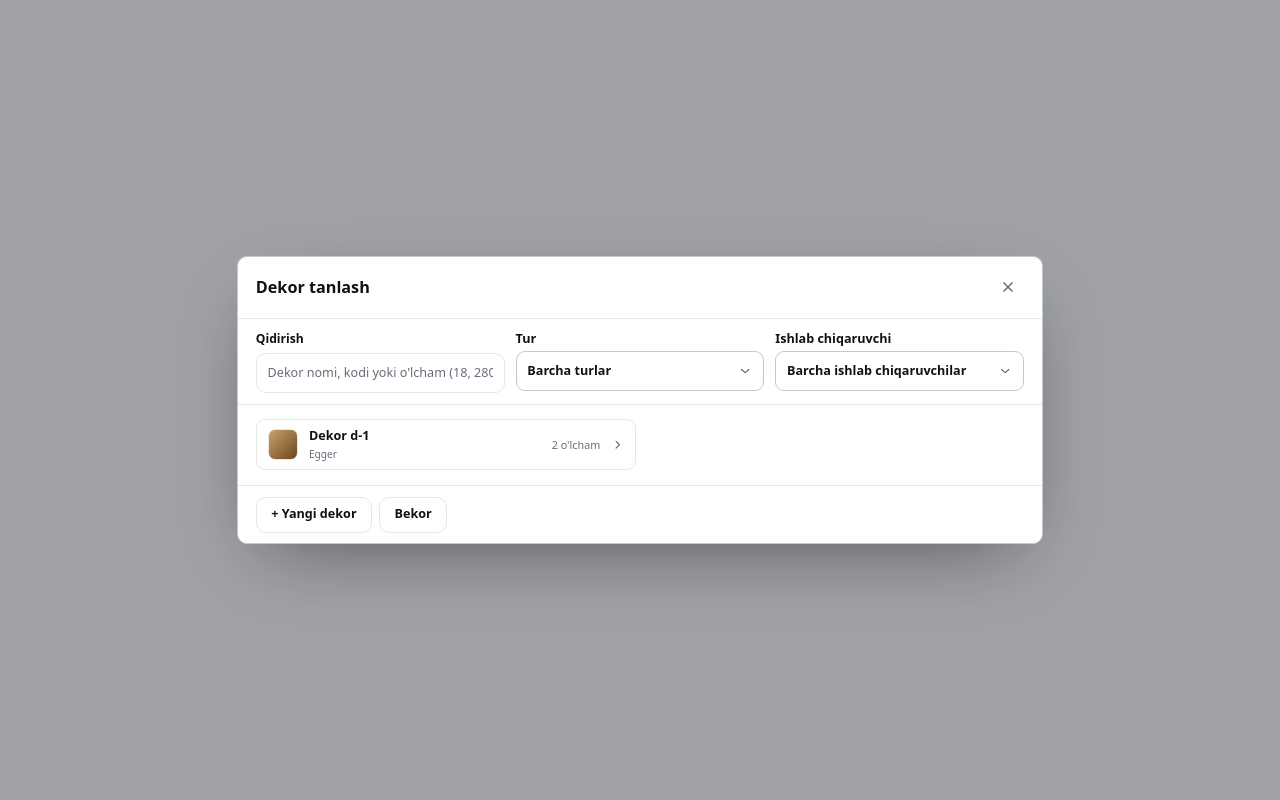
Test: BranchMaterialAttachSheet — «+ Boshqa o‘lcham», merged in silence › ticks a row whose shape is already on screen, without asking the server
This screenshot has width=1280, height=800.
Click the button "Dekor d-1 Egger 2 o'lcham": (283,445) left=256, top=419, right=636, bottom=470
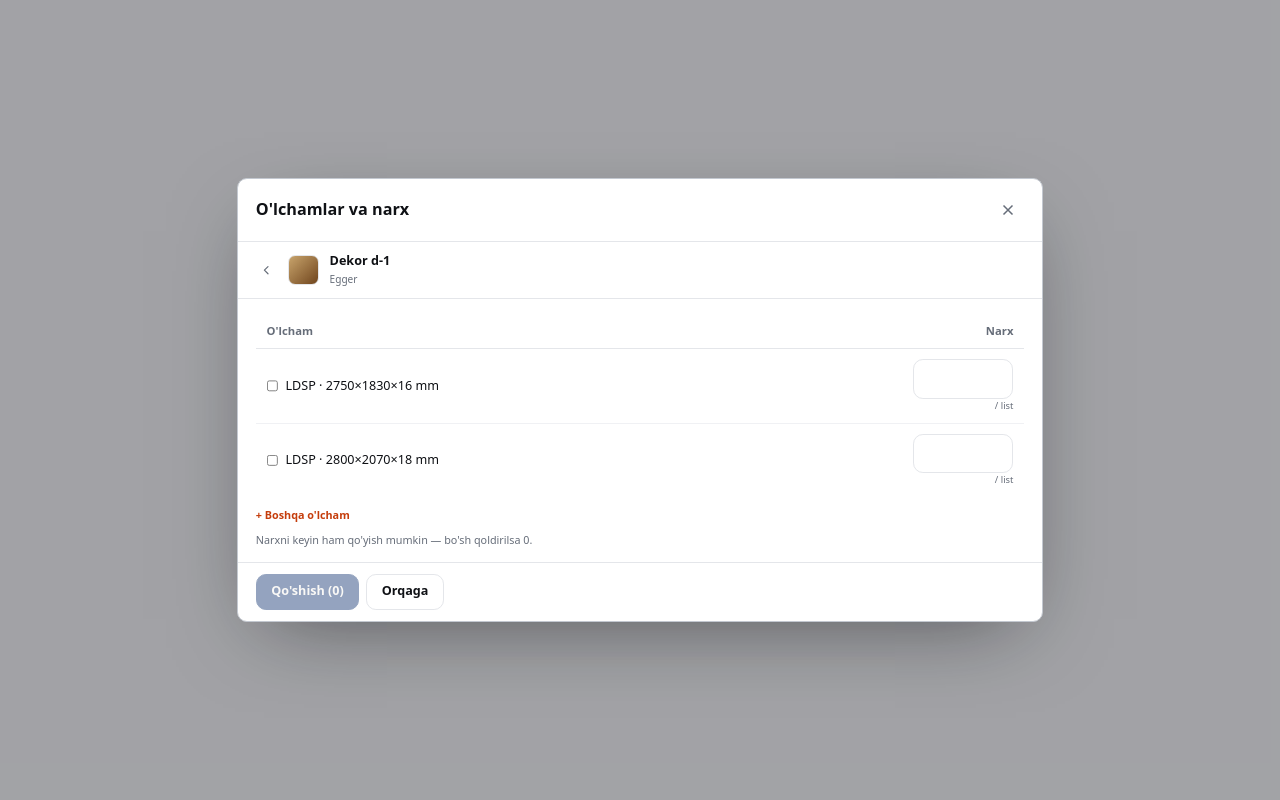
Click the button "+ Boshqa o'lcham": (303,515) left=256, top=508, right=350, bottom=522
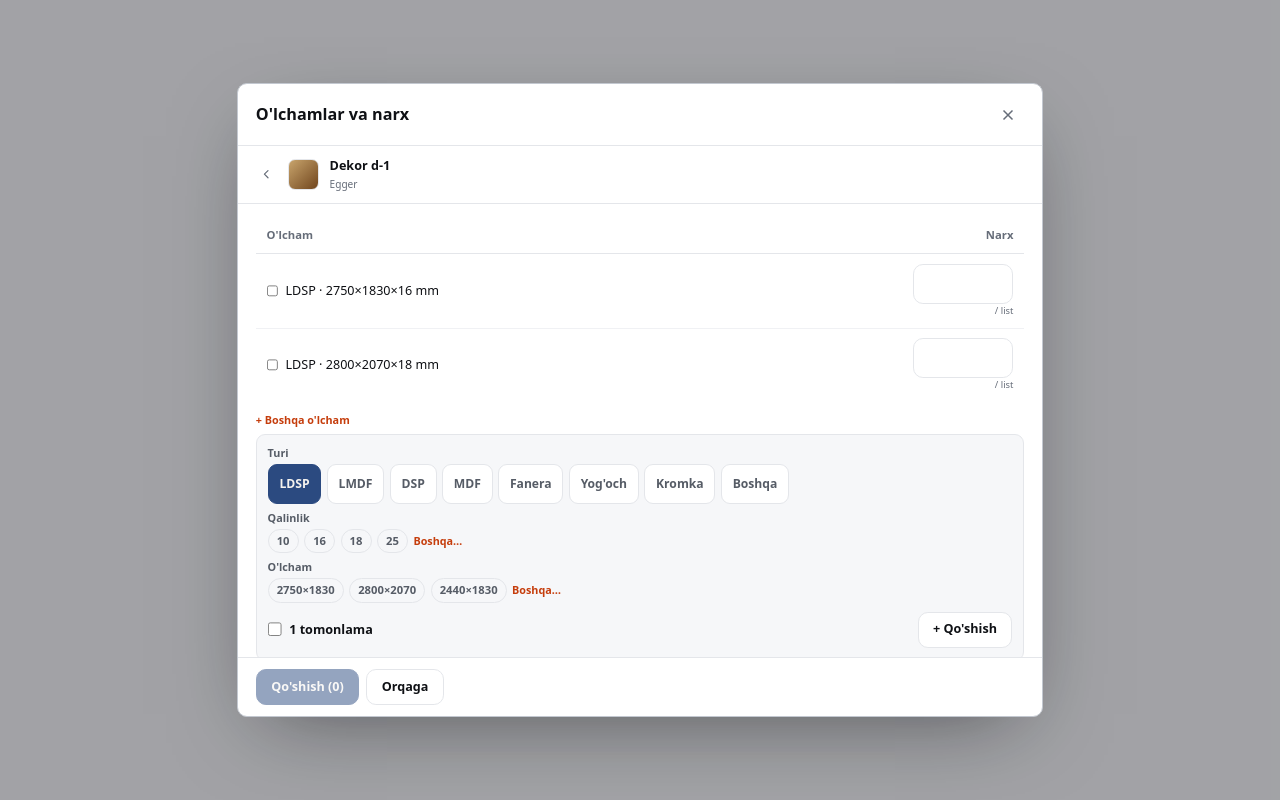
Click the button with class "mp-chip" showing "16": (320,541) left=304, top=529, right=335, bottom=553
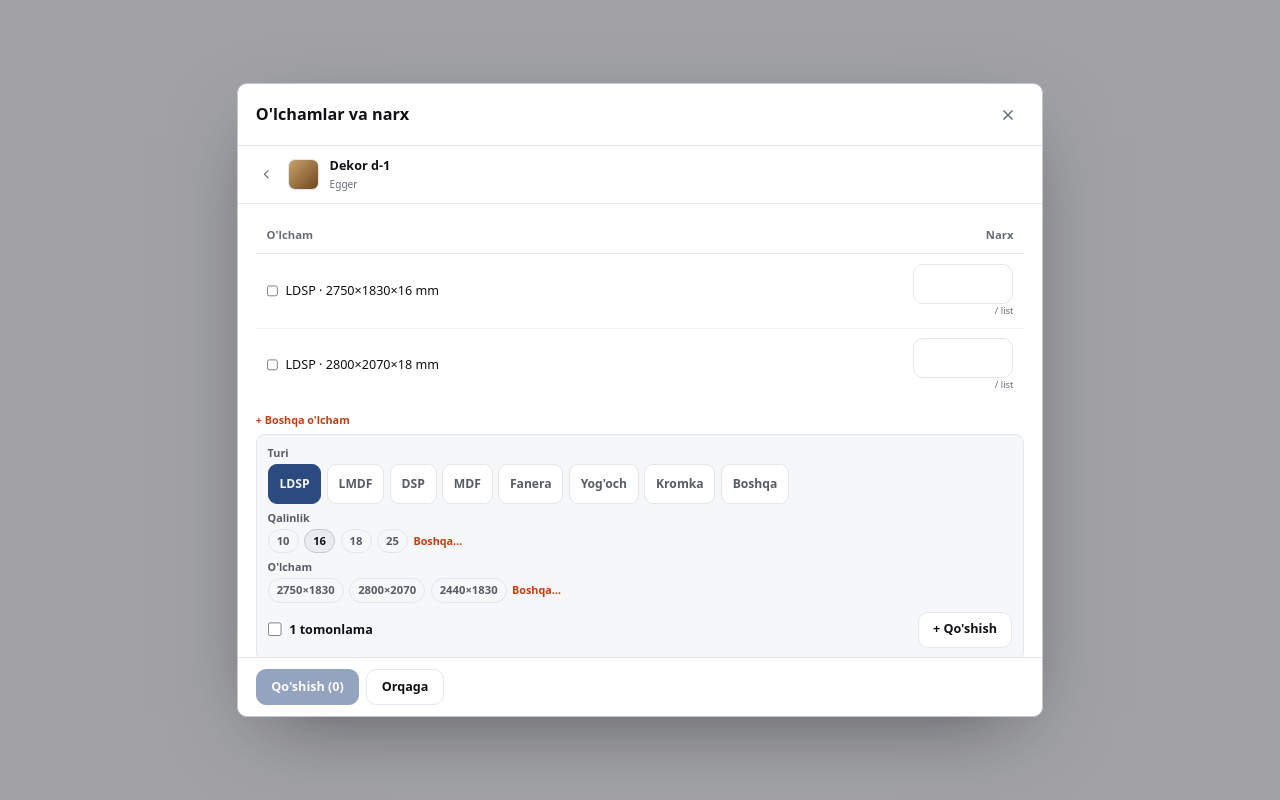
Click the button with class "mp-chip" showing "2750×1830": (306,590) left=268, top=578, right=344, bottom=603
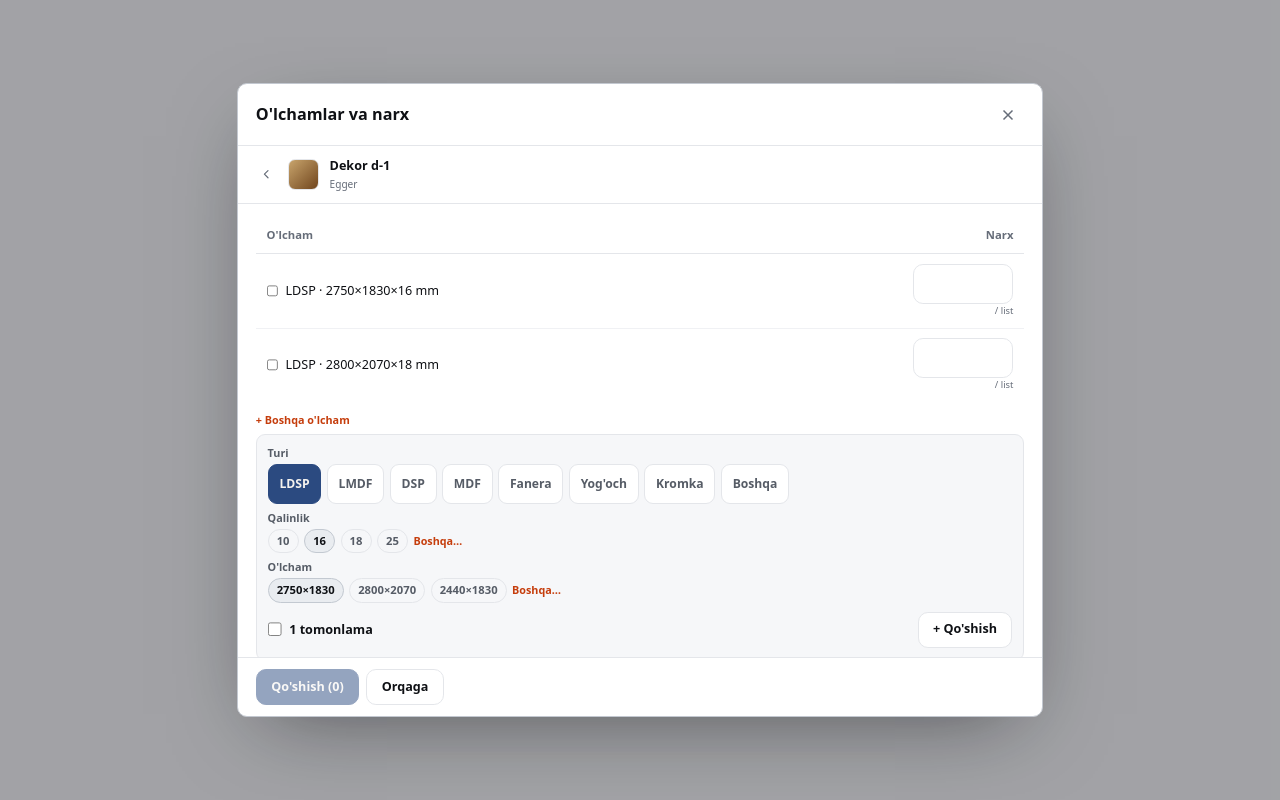
Click the button "+ Qo'shish": (965,630) left=918, top=612, right=1012, bottom=648
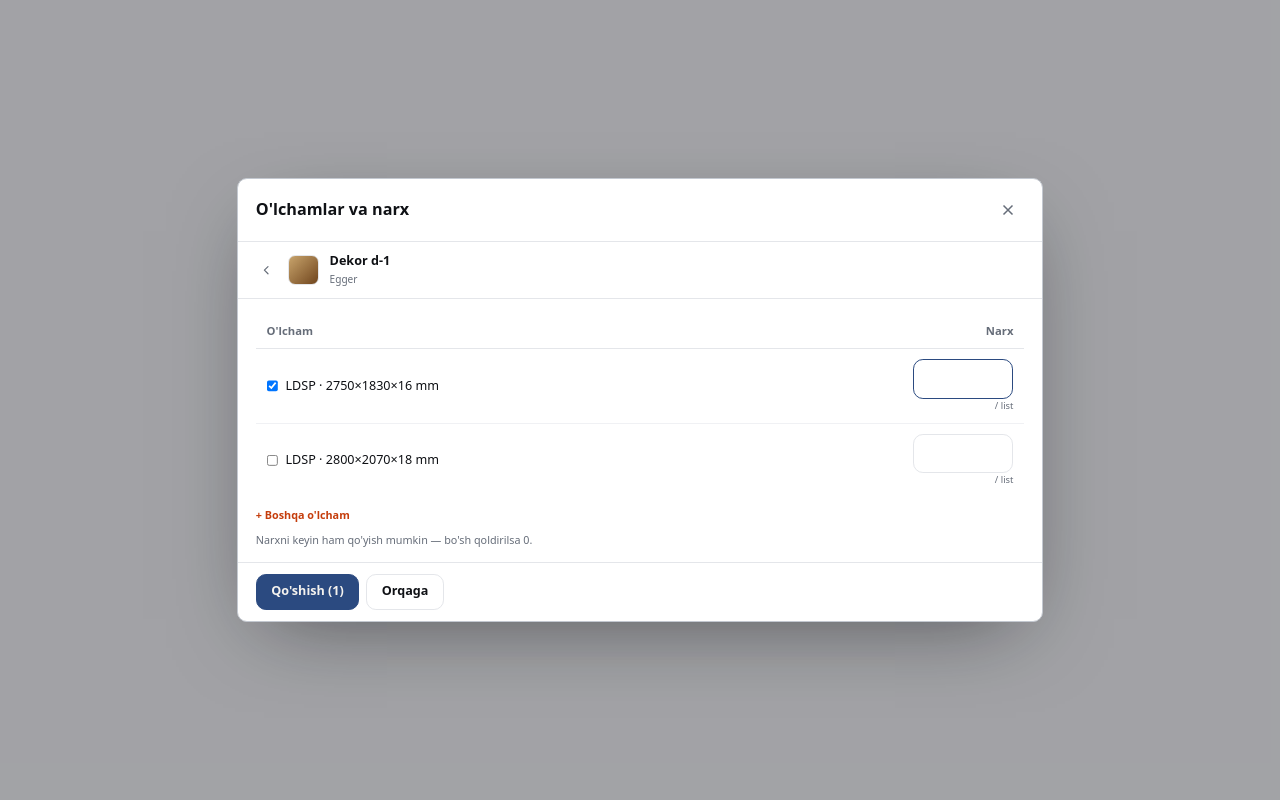
expect the checkbox labelled "LDSP · 2750×1830×16 mm" is checked: met, box left=267, top=380, right=278, bottom=392
expect the button with class "mp-button-primary" reads "Qo'shish (1)": met, box left=256, top=574, right=359, bottom=610
